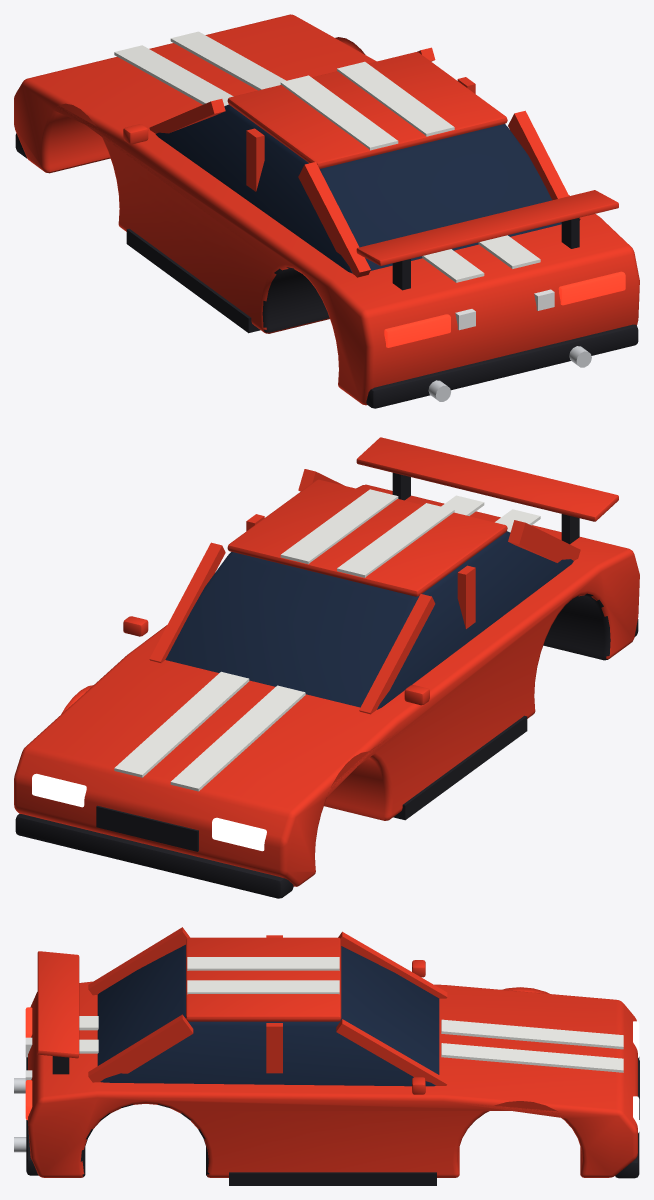
File: car_body.glb
3 renders of one model, top to bottom at view 1: azimuth 30°, elevation 25°; view 2: azimuth 150°, elevation 25°; view 3: azimuth 270°, elevation 25°, orthographic. The views are drawn at different scales.
Visible parts, largest first — view 1: CarBody; view 2: CarBody; view 3: CarBody.
Part boxes in pixels (x1=…): CarBody: x1=14, y1=14, x2=639, y2=408; CarBody: x1=14, y1=437, x2=639, y2=898; CarBody: x1=14, y1=927, x2=639, y2=1185.
Bounding box in the file's own units: 2.14 × 1.23 × 4.52.
